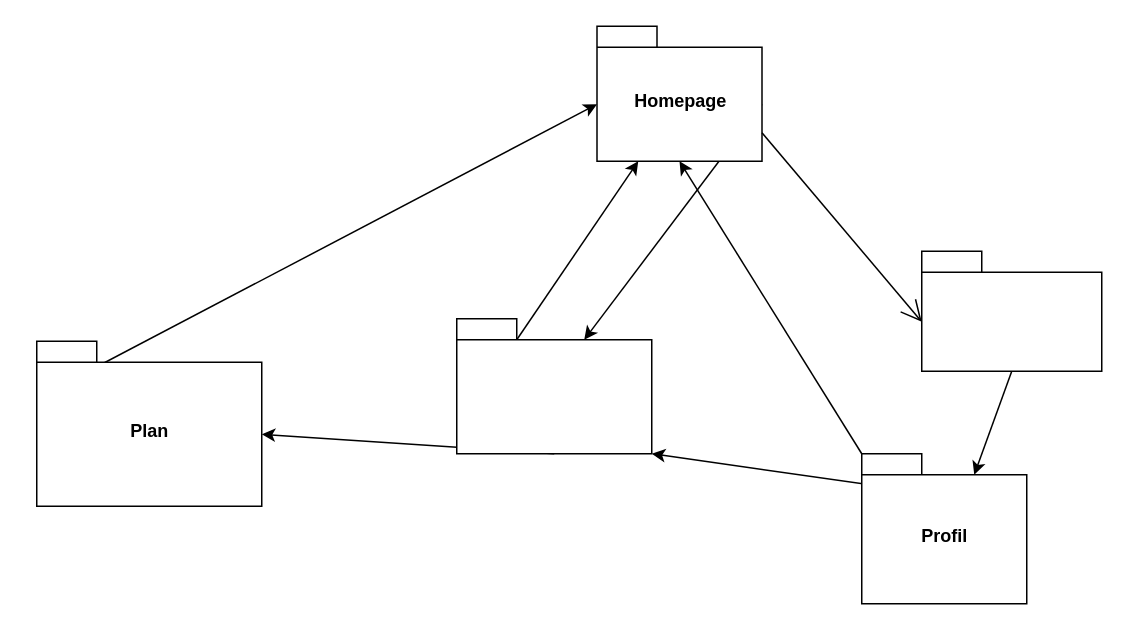
Some shapes in this 1128 by 630 pixel diagram are drawn without their labels. Here are the shapes that lost their labels. From the top down, the centre of each, then its label:
the point at 1011,310: Login/Registrierung
the point at 553,385: Shop
